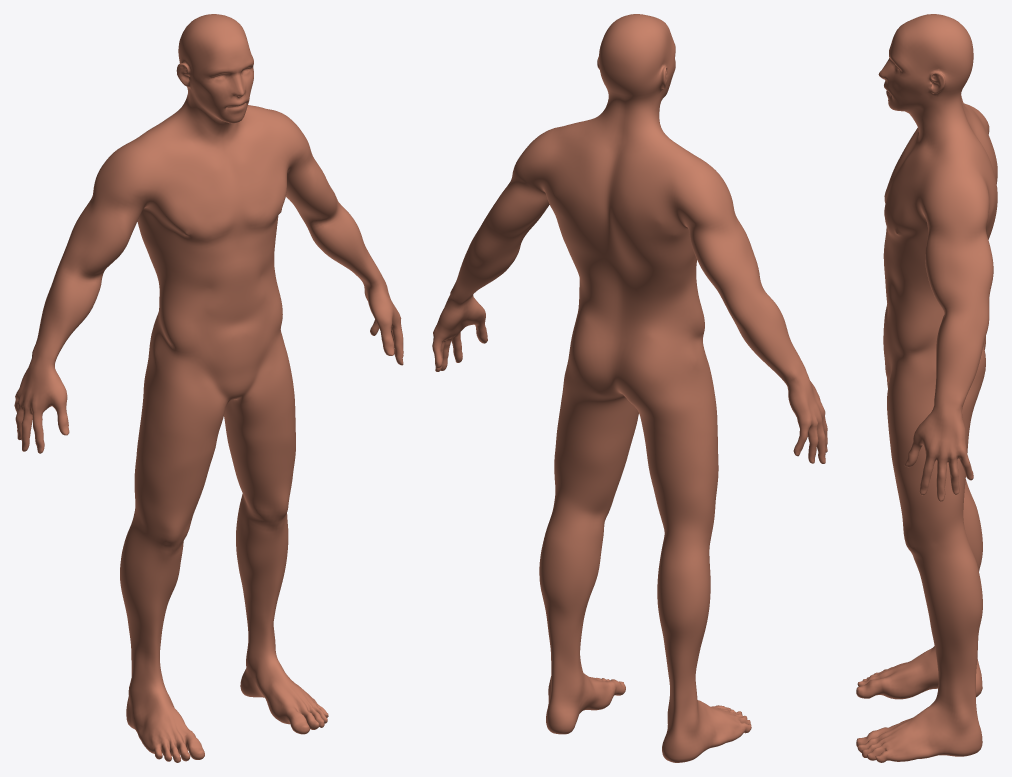
Rendered from male.obj.
The picture shows the model from 3 angles, left to right: view 1: azimuth 30°, elevation 25°; view 2: azimuth 150°, elevation 25°; view 3: azimuth 270°, elevation 25°; orthographic projection.
Visible parts, largest first — view 1: model; view 2: model; view 3: model.
Part boxes in pixels (x1=…): model: x1=14, y1=14, x2=403, y2=762; model: x1=432, y1=14, x2=827, y2=762; model: x1=856, y1=14, x2=997, y2=762.
Size of the model in its own units: 11.69 by 20.74 by 3.77.
